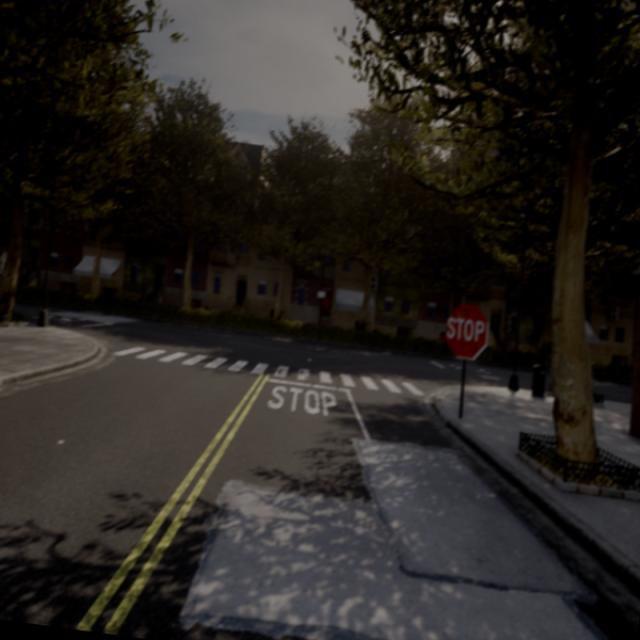stop sign: (442, 300, 491, 362), (445, 314, 486, 344)
